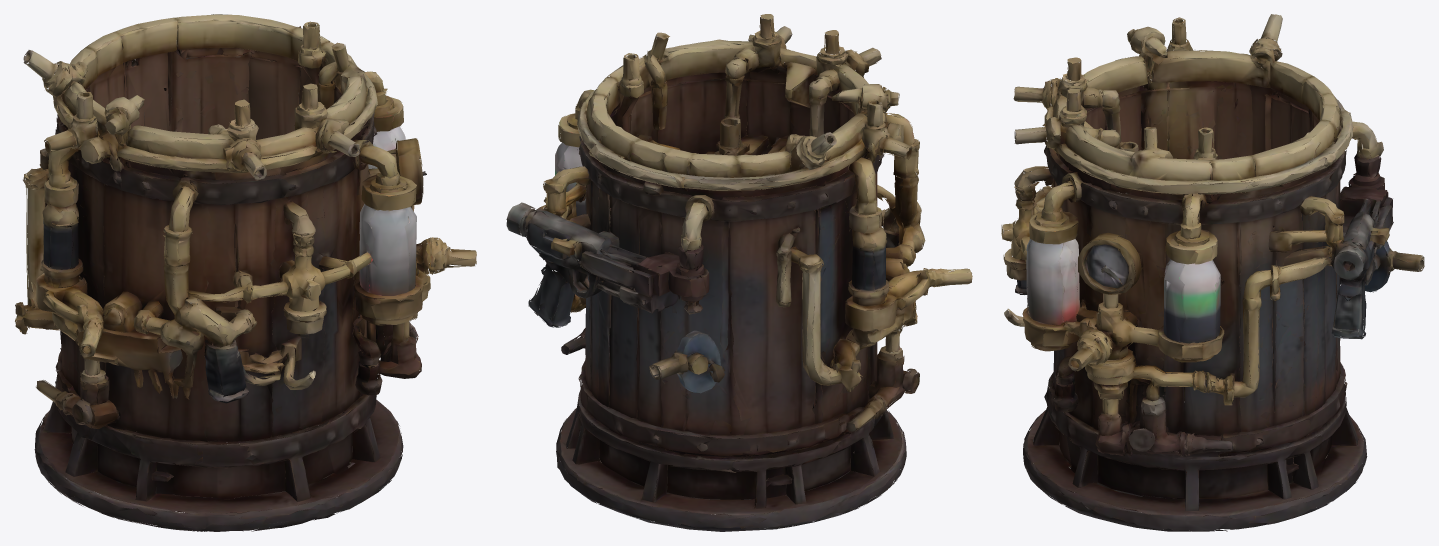
Rendered from cf_porch_fog.glb.
The picture shows the model from 3 angles, left to right: view 1: azimuth 30°, elevation 25°; view 2: azimuth 150°, elevation 25°; view 3: azimuth 270°, elevation 25°; orthographic projection. The views are drawn at different scales.
Parts seen in each view (by area): view 1: base; view 2: base; view 3: base.
Boxes of the visible parts, box(x1,y1,x2,y2) form: base: box(15, 14, 476, 531); base: box(506, 14, 972, 531); base: box(1001, 14, 1424, 531).
Bounding box in the file's own units: 1.39 × 1.4 × 1.4.
Materials: 1 (1 with a texture image).
